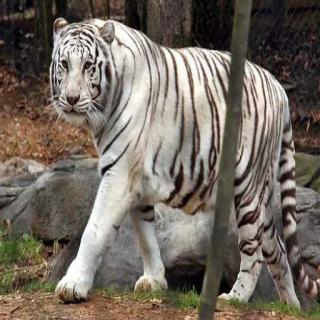Tiger: (25, 13, 320, 304)
